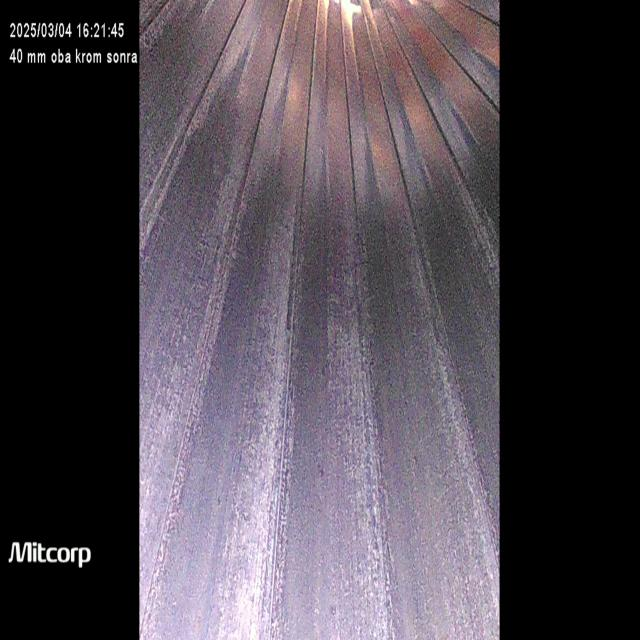hata_8.1: (330, 236, 411, 640), (250, 221, 298, 638)
